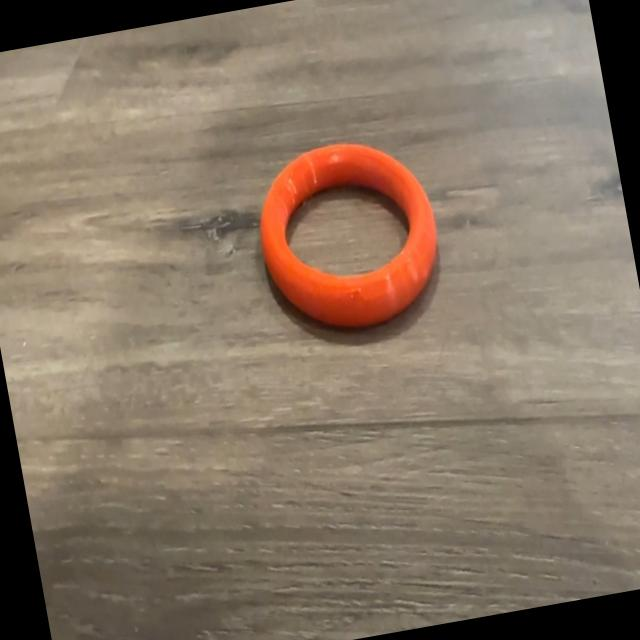note: (242, 122, 455, 352)
